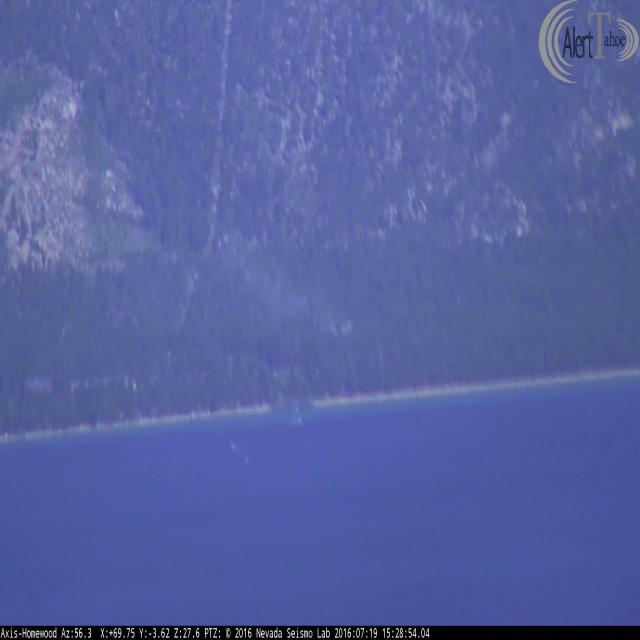smoke: (234, 239, 358, 335)
